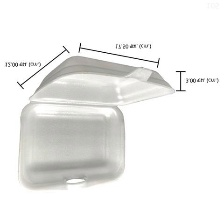foam_box: (11, 52, 178, 196)
